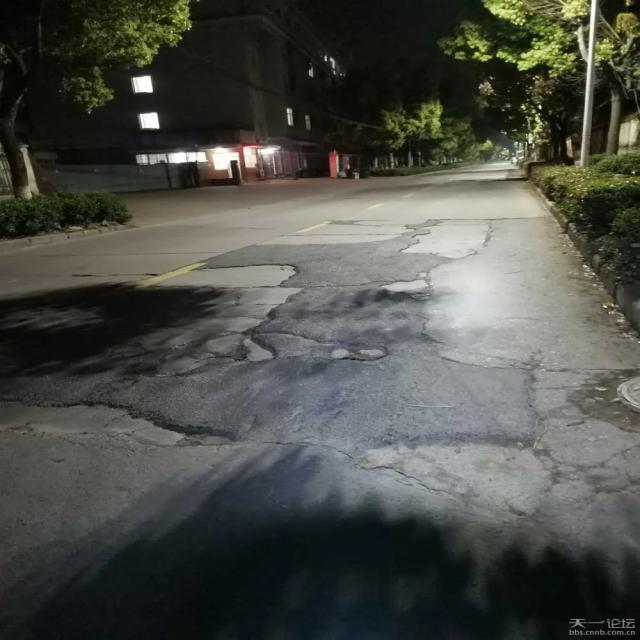pothole: (373, 433, 576, 522), (8, 400, 231, 456), (132, 331, 396, 378), (407, 217, 491, 265), (383, 271, 436, 299)
